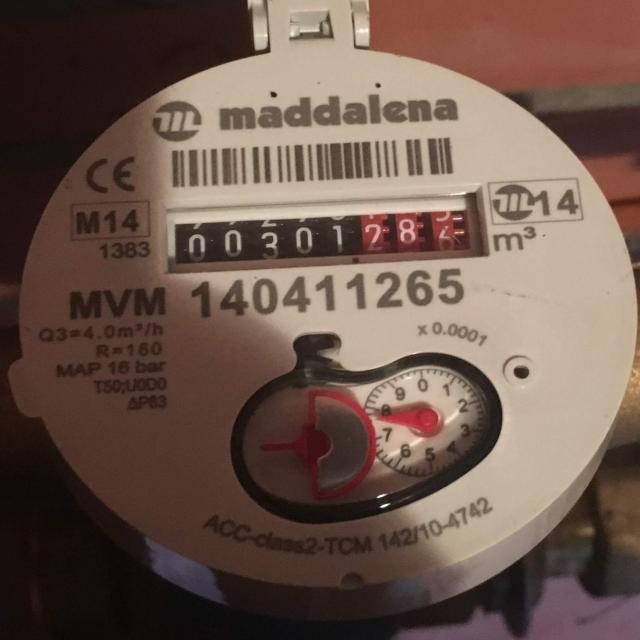gaz_meter: (24, 45, 638, 590)
indication: (173, 208, 472, 267)
